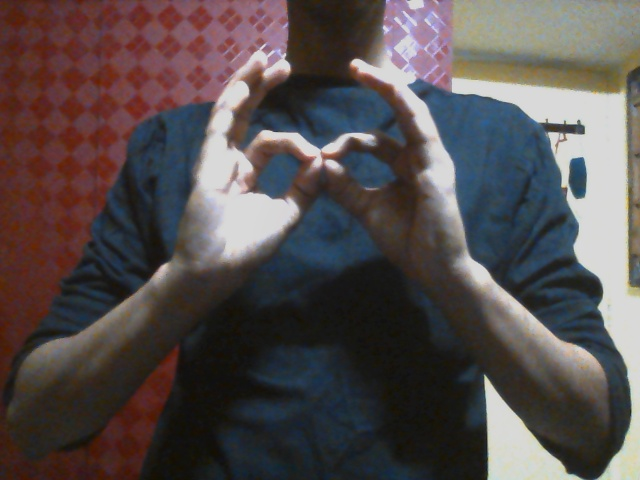B: (174, 49, 468, 287)
